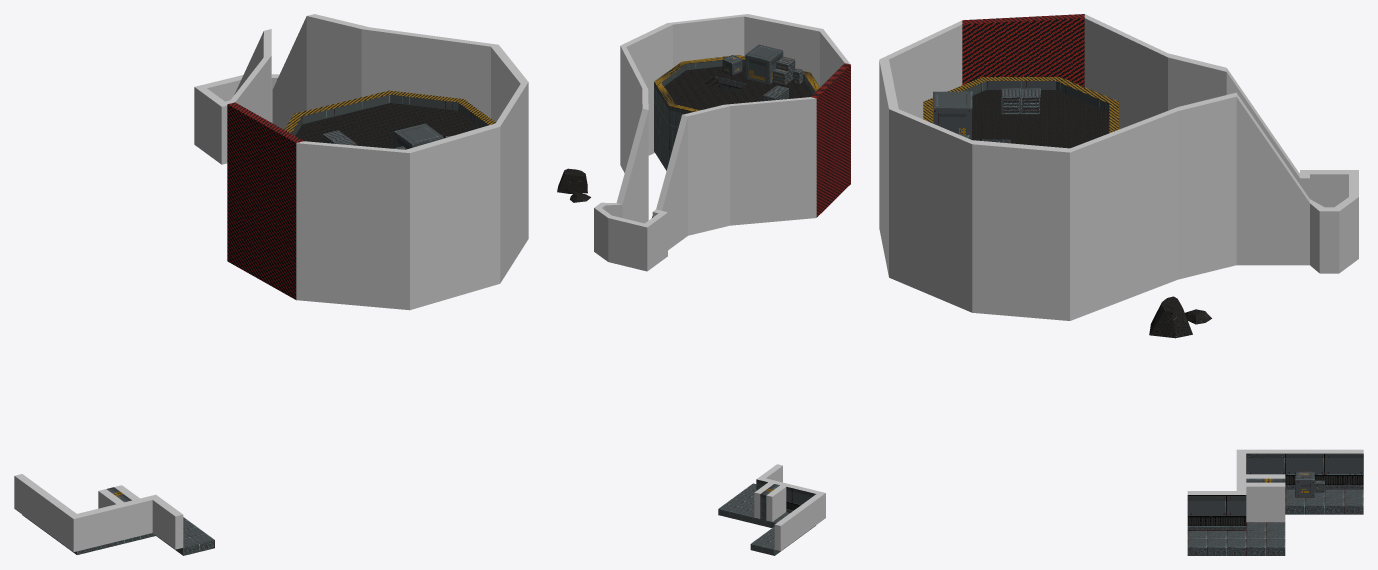
File: level.obj
3 views of the same model, side by side, from view 1: azimuth 30°, elevation 25°; view 2: azimuth 150°, elevation 25°; view 3: azimuth 270°, elevation 25° (orthographic). The views are drawn at different scales.
Parts seen in each view (by area): view 1: entity0_brush28, entity0_brush27, entity0_brush29, entity0_brush24, entity0_brush26, entity0_brush23, entity0_brush113, entity0_brush114, entity0_brush20, entity0_brush102, entity0_brush22, entity0_brush25 (+7 smaller); view 2: entity0_brush30, entity0_brush31, entity0_brush29, entity0_brush26, entity0_brush27, entity0_brush21, entity0_brush25, entity0_brush20, entity0_brush24, entity0_brush115, entity0_brush114, entity0_brush38 (+17 smaller); view 3: entity0_brush24, entity0_brush25, entity0_brush26, entity0_brush23, entity0_brush20, entity0_brush29, entity0_brush30, entity0_brush102, entity0_brush28, entity0_brush114, entity0_brush106, entity0_brush31 (+15 smaller).
Part boxes in pixels (x1,y1,x2,y2): entity0_brush28: (296, 141, 409, 310); entity0_brush27: (406, 123, 500, 309); entity0_brush29: (227, 102, 303, 299); entity0_brush24: (361, 27, 497, 118); entity0_brush26: (495, 82, 528, 282); entity0_brush23: (306, 14, 368, 110); entity0_brush113: (73, 494, 155, 551); entity0_brush114: (14, 474, 76, 551); entity0_brush20: (272, 16, 306, 129); entity0_brush102: (295, 112, 394, 148); entity0_brush22: (194, 87, 224, 164); entity0_brush25: (491, 44, 528, 122); entity0_brush30: (724, 97, 816, 225); entity0_brush31: (682, 105, 729, 235); entity0_brush29: (811, 63, 850, 217); entity0_brush26: (667, 14, 746, 67); entity0_brush27: (744, 14, 822, 86); entity0_brush21: (656, 115, 687, 250); entity0_brush25: (621, 23, 672, 155); entity0_brush20: (616, 108, 648, 223); entity0_brush24: (620, 45, 647, 172); entity0_brush115: (608, 215, 647, 271); entity0_brush114: (774, 493, 825, 550); entity0_brush38: (745, 44, 783, 85); entity0_brush24: (1070, 107, 1177, 320); entity0_brush25: (972, 140, 1069, 320); entity0_brush26: (889, 109, 972, 312); entity0_brush23: (1177, 92, 1236, 279); entity0_brush20: (1236, 93, 1309, 265); entity0_brush29: (962, 14, 1084, 86); entity0_brush30: (1084, 14, 1167, 129); entity0_brush102: (972, 102, 1109, 143); entity0_brush28: (879, 20, 962, 118); entity0_brush114: (1237, 449, 1363, 489); entity0_brush106: (1187, 530, 1285, 555); entity0_brush31: (1168, 53, 1226, 110).
Size of the model in its own units: 770 by 944 by 792.
